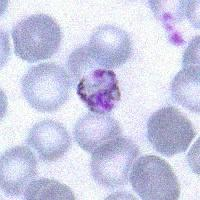Infected: (77, 68, 121, 112)
Uninfected: (69, 24, 131, 71), (20, 61, 70, 110), (11, 13, 61, 61), (147, 106, 194, 156), (127, 154, 179, 199), (74, 111, 121, 153), (89, 144, 136, 186), (27, 118, 71, 159), (1, 144, 39, 188), (109, 137, 139, 165)
